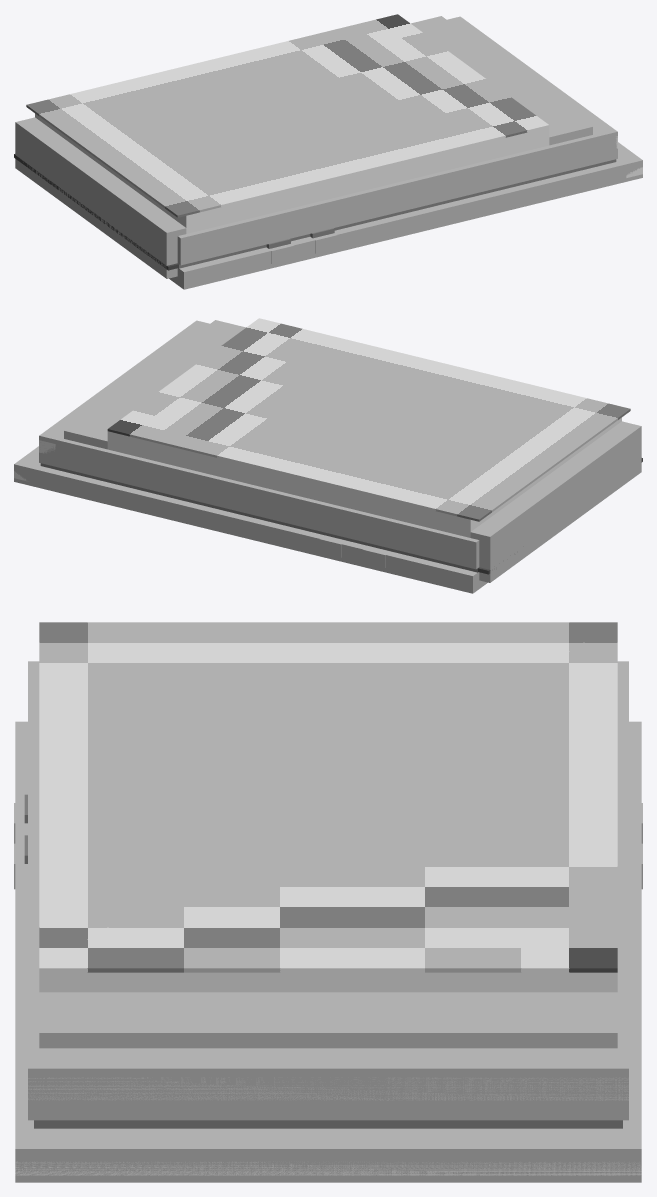
The model's file is CMU3DBedsheetWhite.glb.
The picture shows the model from 3 angles, top to bottom: view 1: azimuth 30°, elevation 25°; view 2: azimuth 150°, elevation 25°; view 3: azimuth 270°, elevation 25°; orthographic projection. The views are drawn at different scales.
Parts seen in each view (by area): view 1: original upper cloth weave and stripes, upper folded cloth, soft left folded edge, lower folded cloth, upper fold loft, staggered free cloth end, recessed fold seam, left lower seam; view 2: original upper cloth weave and stripes, upper folded cloth, soft left folded edge, lower folded cloth, upper fold loft, staggered free cloth end, recessed fold seam; view 3: original upper cloth weave and stripes, upper folded cloth, lower folded cloth, staggered free cloth end, upper fold loft, lower free hem, recessed fold seam, upper free hem.
Part boxes in pixels (x1=…): original upper cloth weave and stripes: x1=26, y1=14, x2=549, y2=217; upper folded cloth: x1=177, y1=16, x2=617, y2=265; soft left folded edge: x1=15, y1=117, x2=186, y2=278; lower folded cloth: x1=169, y1=142, x2=642, y2=289; upper fold loft: x1=35, y1=113, x2=549, y2=233; staggered free cloth end: x1=411, y1=16, x2=592, y2=145; recessed fold seam: x1=178, y1=159, x2=616, y2=268; left lower seam: x1=14, y1=154, x2=178, y2=270; original upper cloth weave and stripes: x1=107, y1=318, x2=630, y2=521; upper folded cloth: x1=39, y1=320, x2=479, y2=569; soft left folded edge: x1=470, y1=421, x2=641, y2=582; lower folded cloth: x1=14, y1=446, x2=487, y2=593; upper fold loft: x1=107, y1=417, x2=621, y2=537; staggered free cloth end: x1=64, y1=320, x2=245, y2=449; recessed fold seam: x1=40, y1=463, x2=478, y2=572; original upper cloth weave and stripes: x1=39, y1=622, x2=617, y2=972; upper folded cloth: x1=28, y1=661, x2=628, y2=1120; lower folded cloth: x1=15, y1=721, x2=641, y2=1182; staggered free cloth end: x1=39, y1=992, x2=617, y2=1048; upper fold loft: x1=39, y1=972, x2=617, y2=992; lower free hem: x1=15, y1=1161, x2=641, y2=1175; recessed fold seam: x1=34, y1=1120, x2=622, y2=1128; upper free hem: x1=28, y1=1077, x2=628, y2=1100.
Size of the model in its own units: 0.6719 by 0.095 by 0.408.
Materials: 5 (1 with a texture image).
